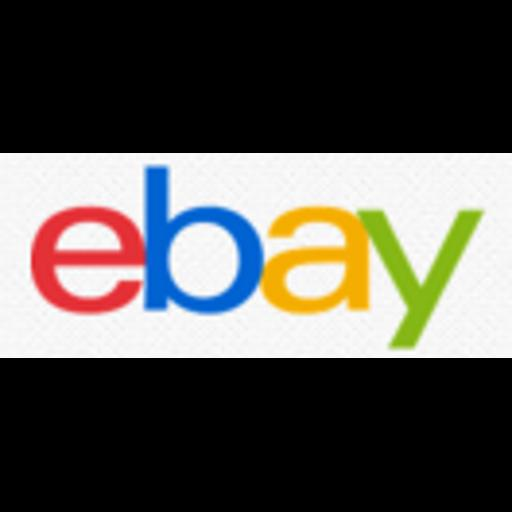eBay: (0, 153, 512, 358)
